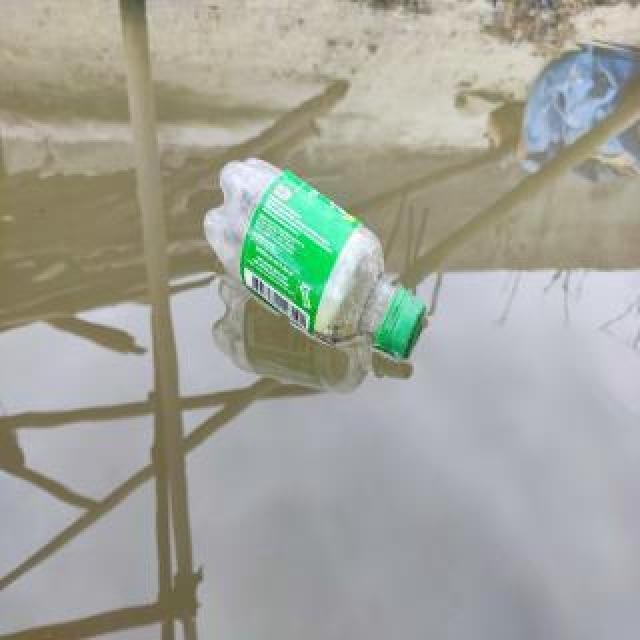bottle: (197, 143, 431, 367)
